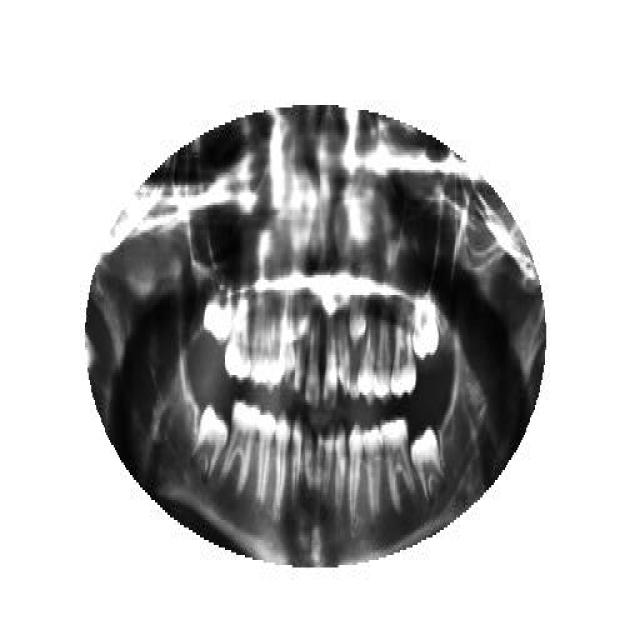Impacted Tooth: (190, 395, 231, 485), (409, 422, 446, 502), (411, 290, 440, 362)
